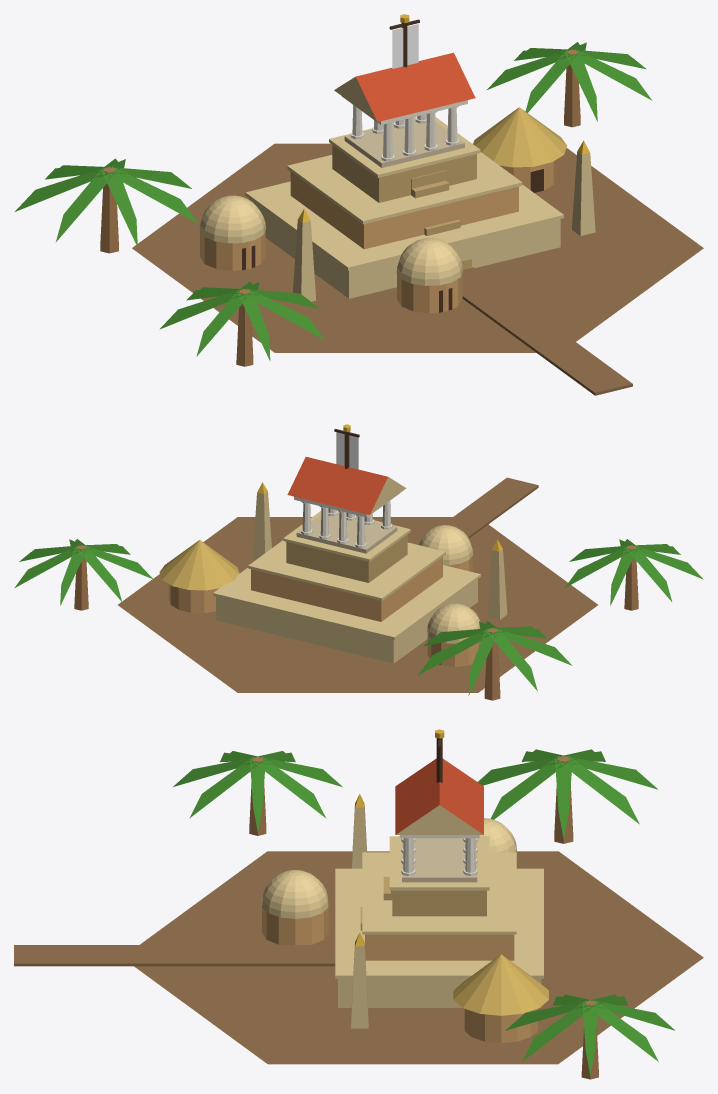
The model's file is capital_0_1.fbx.
3 renders of one model, top to bottom at view 1: azimuth 30°, elevation 25°; view 2: azimuth 150°, elevation 25°; view 3: azimuth 270°, elevation 25°, orthographic. The views are drawn at different scales.
Parts seen in each view (by area): view 1: capital_0_1; view 2: capital_0_1; view 3: capital_0_1.
Part boxes in pixels (x1,y1,x2,y2): capital_0_1: [15, 14, 703, 395]; capital_0_1: [14, 424, 703, 700]; capital_0_1: [14, 729, 703, 1079].
Bounding box in the file's own units: 268 × 90 × 249.
